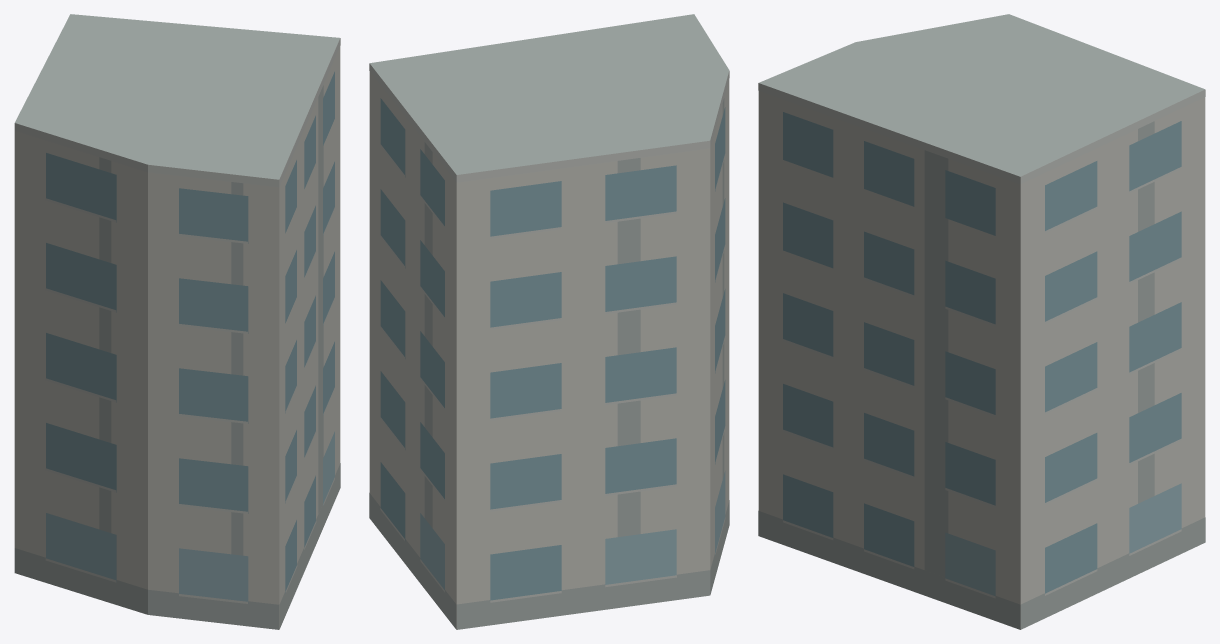
Rendered from survey-upis-32537806.glb.
3 renders of one model, left to right at view 1: azimuth 30°, elevation 25°; view 2: azimuth 150°, elevation 25°; view 3: azimuth 270°, elevation 25°, orthographic.
Parts seen in each view (by area): view 1: survey-upis-32537806.tmp; view 2: survey-upis-32537806.tmp; view 3: survey-upis-32537806.tmp.
Boxes of the visible parts, x1,y1,x2,y2 form: survey-upis-32537806.tmp: (14,14,340,629); survey-upis-32537806.tmp: (369,14,729,629); survey-upis-32537806.tmp: (758,14,1205,629).
Bounding box in the file's own units: 11.11 × 14.4 × 12.88.
